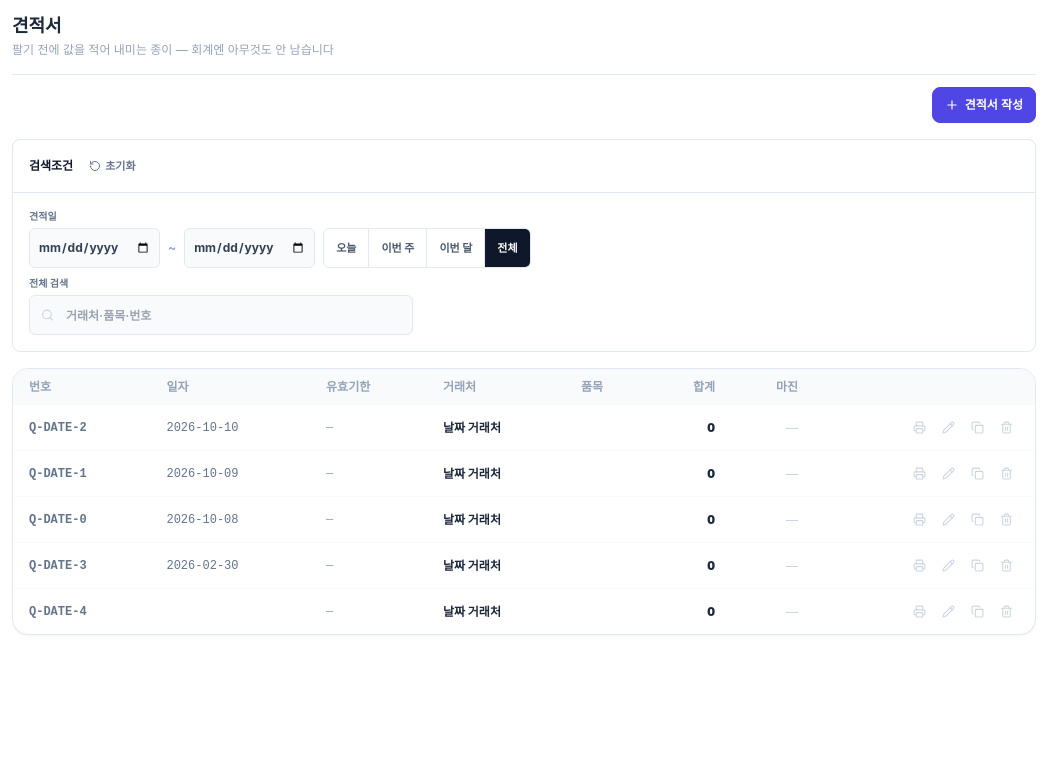
견적일 양끝 포함 조회와 초기화는 회사 범위·원문·업무 쓰기를 보존한다
This screenshot has width=1048, height=780.
Check: the text "Q-DATE-3" is shown, box x1=13 y1=542 x2=150 y2=588
Type "2026-10-09" into the date field named "견적일 시작일".
click(94, 248); type("2026-10-09")  # box x1=29 y1=228 x2=160 y2=268
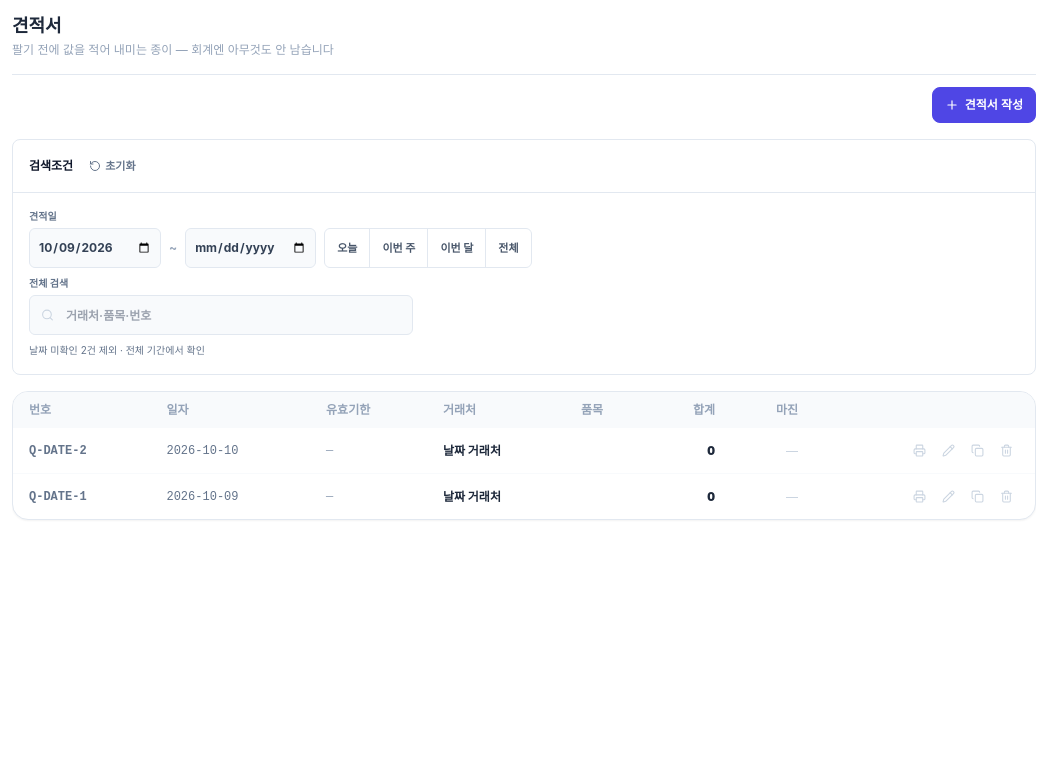
Type "2026-10-09" into the date field named "견적일 종료일".
click(251, 248); type("2026-10-09")  # box x1=185 y1=228 x2=316 y2=268
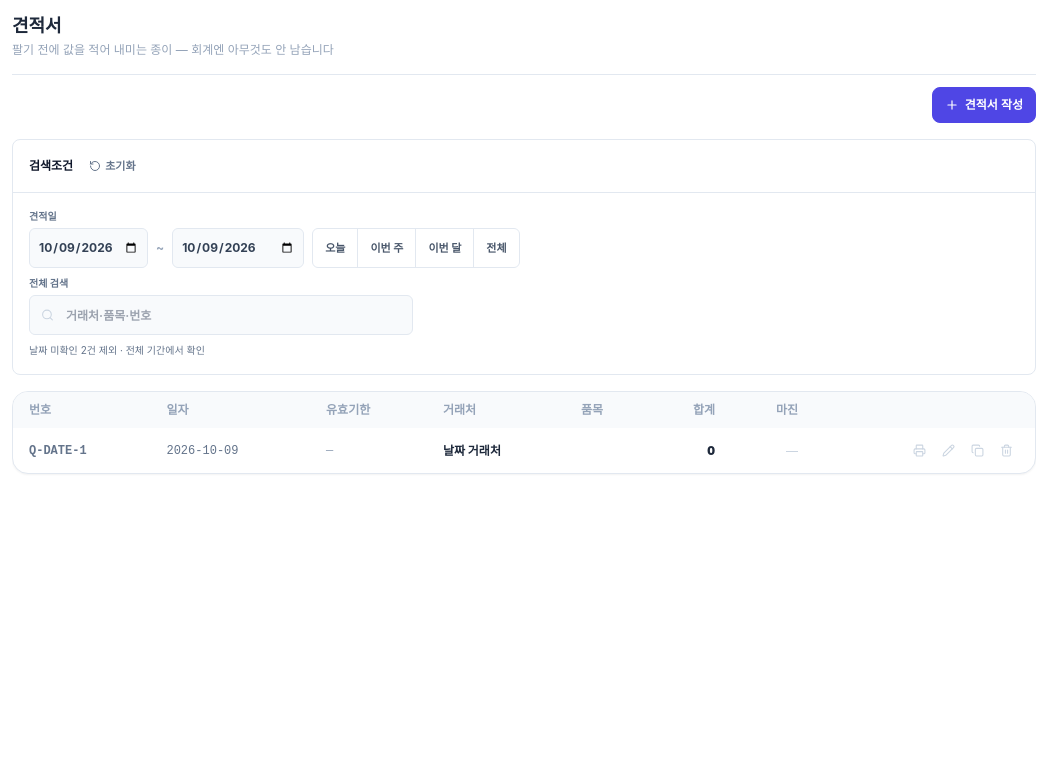
Check: the text "Q-DATE-1" is shown, box x1=13 y1=428 x2=150 y2=473
Check: the text "Q-DATE-3" is not shown
Click the button "초기화".
click(112, 166)  # box x1=81 y1=150 x2=144 y2=182
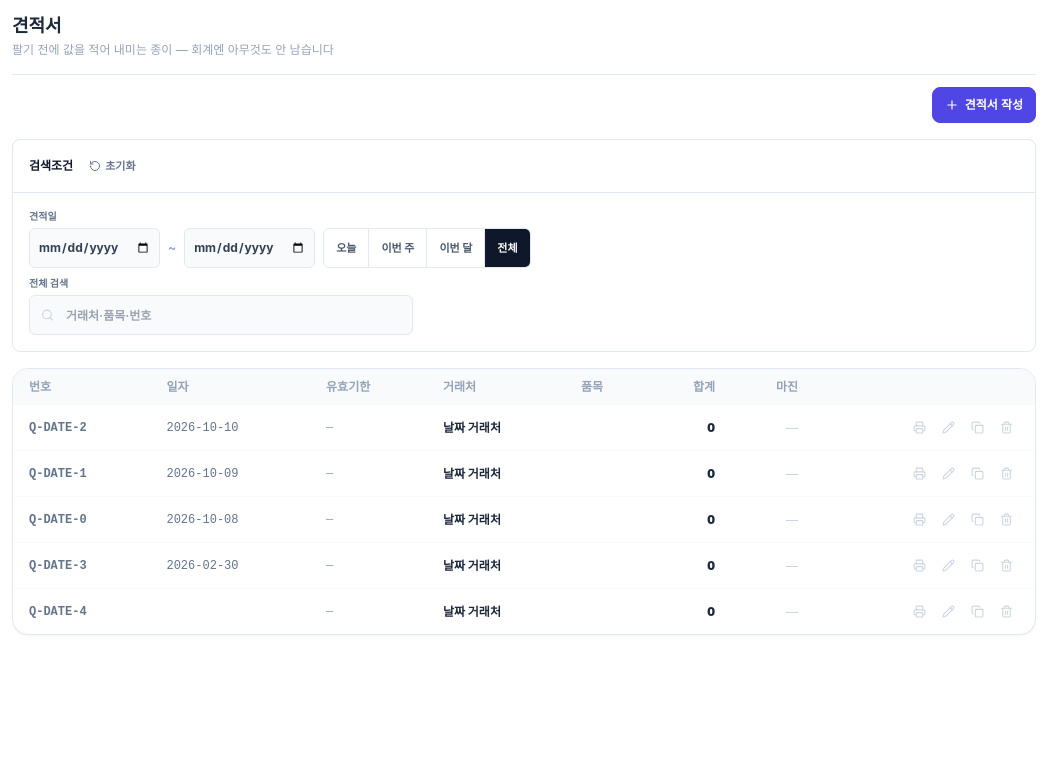
Check: the text "Q-DATE-3" is shown, box x1=13 y1=542 x2=150 y2=588
Check: the text "Q-DATE-4" is shown, box x1=13 y1=588 x2=150 y2=634
